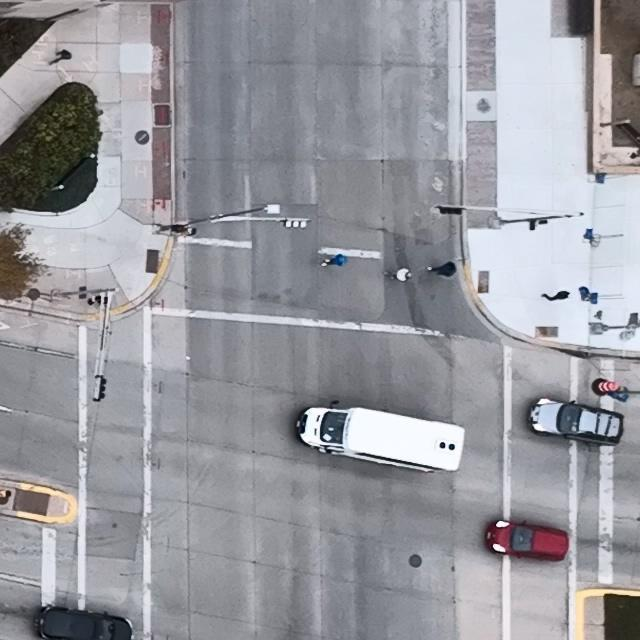car: (294, 401, 466, 474), (529, 398, 624, 446), (484, 519, 568, 563), (33, 604, 134, 640)
